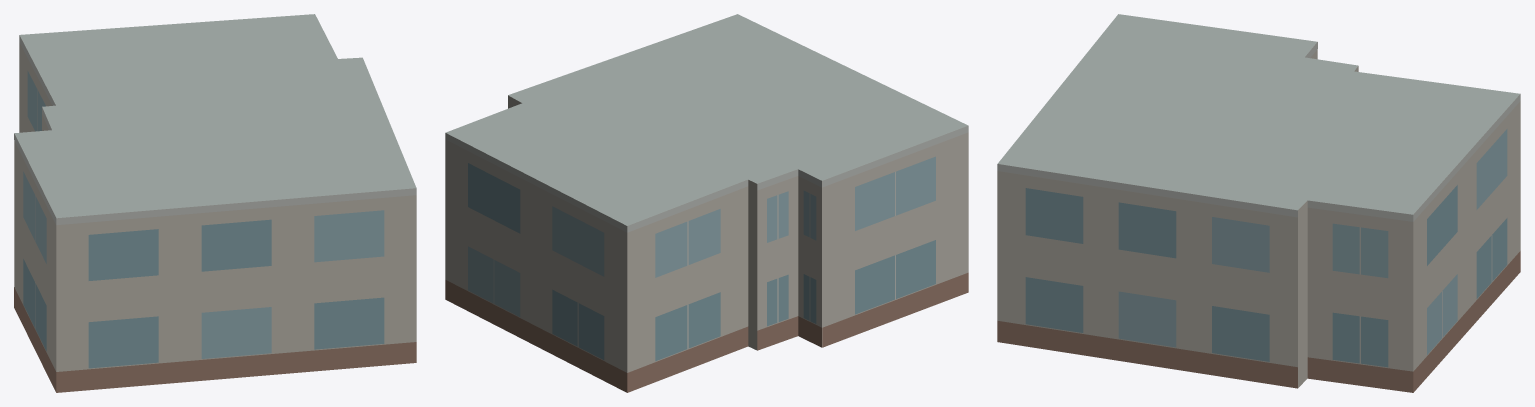
Rendered from survey-upis-32851045.glb.
3 views of the same model, side by side, from view 1: azimuth 30°, elevation 25°; view 2: azimuth 150°, elevation 25°; view 3: azimuth 270°, elevation 25° (orthographic). The views are drawn at different scales.
Parts seen in each view (by area): view 1: survey-upis-32851045.tmp; view 2: survey-upis-32851045.tmp; view 3: survey-upis-32851045.tmp.
Part boxes in pixels (x1=…): survey-upis-32851045.tmp: x1=14, y1=14, x2=416, y2=392; survey-upis-32851045.tmp: x1=445, y1=14, x2=968, y2=392; survey-upis-32851045.tmp: x1=997, y1=14, x2=1520, y2=392.
Bounding box in the file's own units: 14.75 × 6.1 × 16.24.
